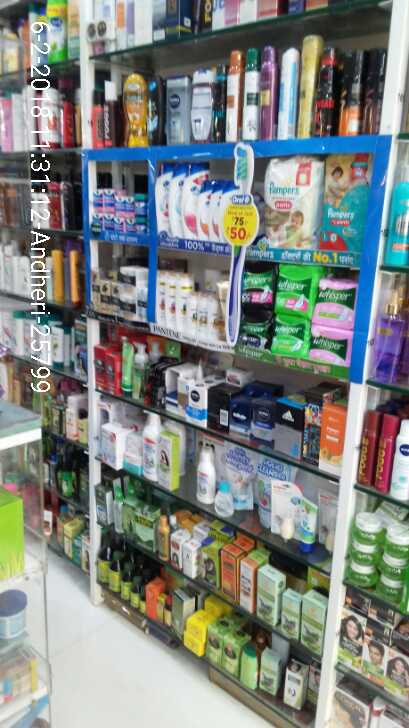vicks: (93, 186, 146, 237)
